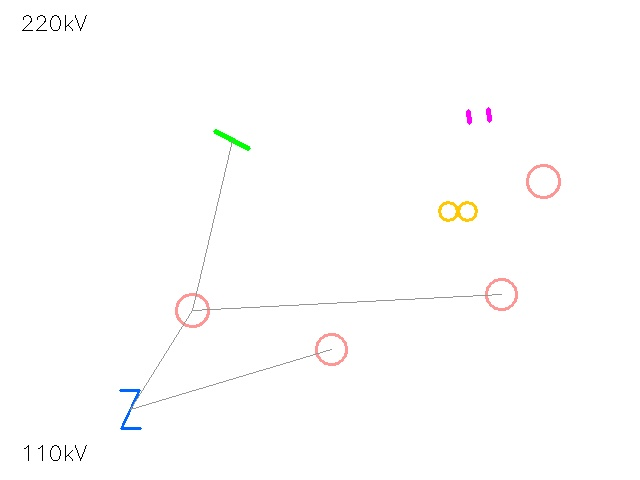busbar: (209, 117, 255, 163)
capacitor: (462, 99, 496, 133)
circuit_breaker: (109, 388, 151, 430)
current_transformer: (511, 149, 575, 213), (470, 263, 532, 325)
surge_arrester: (160, 278, 224, 342)
transformer_2w: (435, 188, 481, 234)
voltage_transformer: (301, 319, 361, 379)
